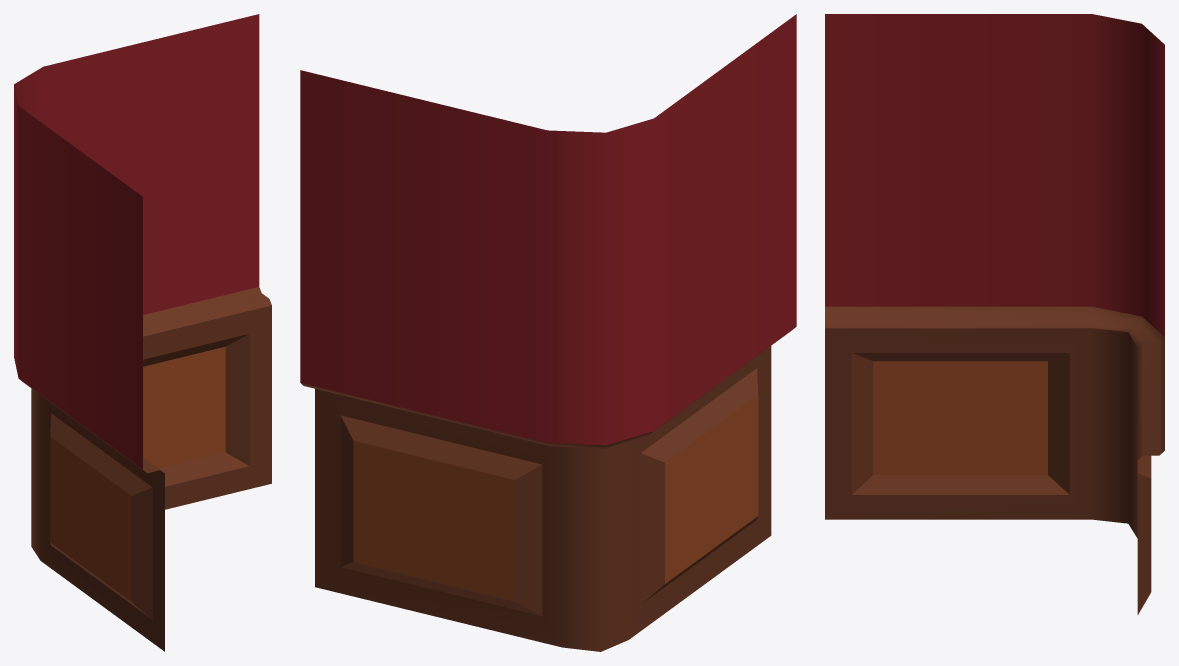
The model's file is HoekMuurbar2.fbx.
3 views of the same model, side by side, from view 1: azimuth 30°, elevation 25°; view 2: azimuth 150°, elevation 25°; view 3: azimuth 270°, elevation 25° (orthographic). The views are drawn at different scales.
Parts seen in each view (by area): view 1: Plane.013; view 2: Plane.013; view 3: Plane.013.
Part boxes in pixels (x1,y1,x2,y2): Plane.013: (14,14,271,651); Plane.013: (300,14,796,651); Plane.013: (825,14,1164,614).
Size of the model in its own units: 1.25 by 2 by 1.25.
